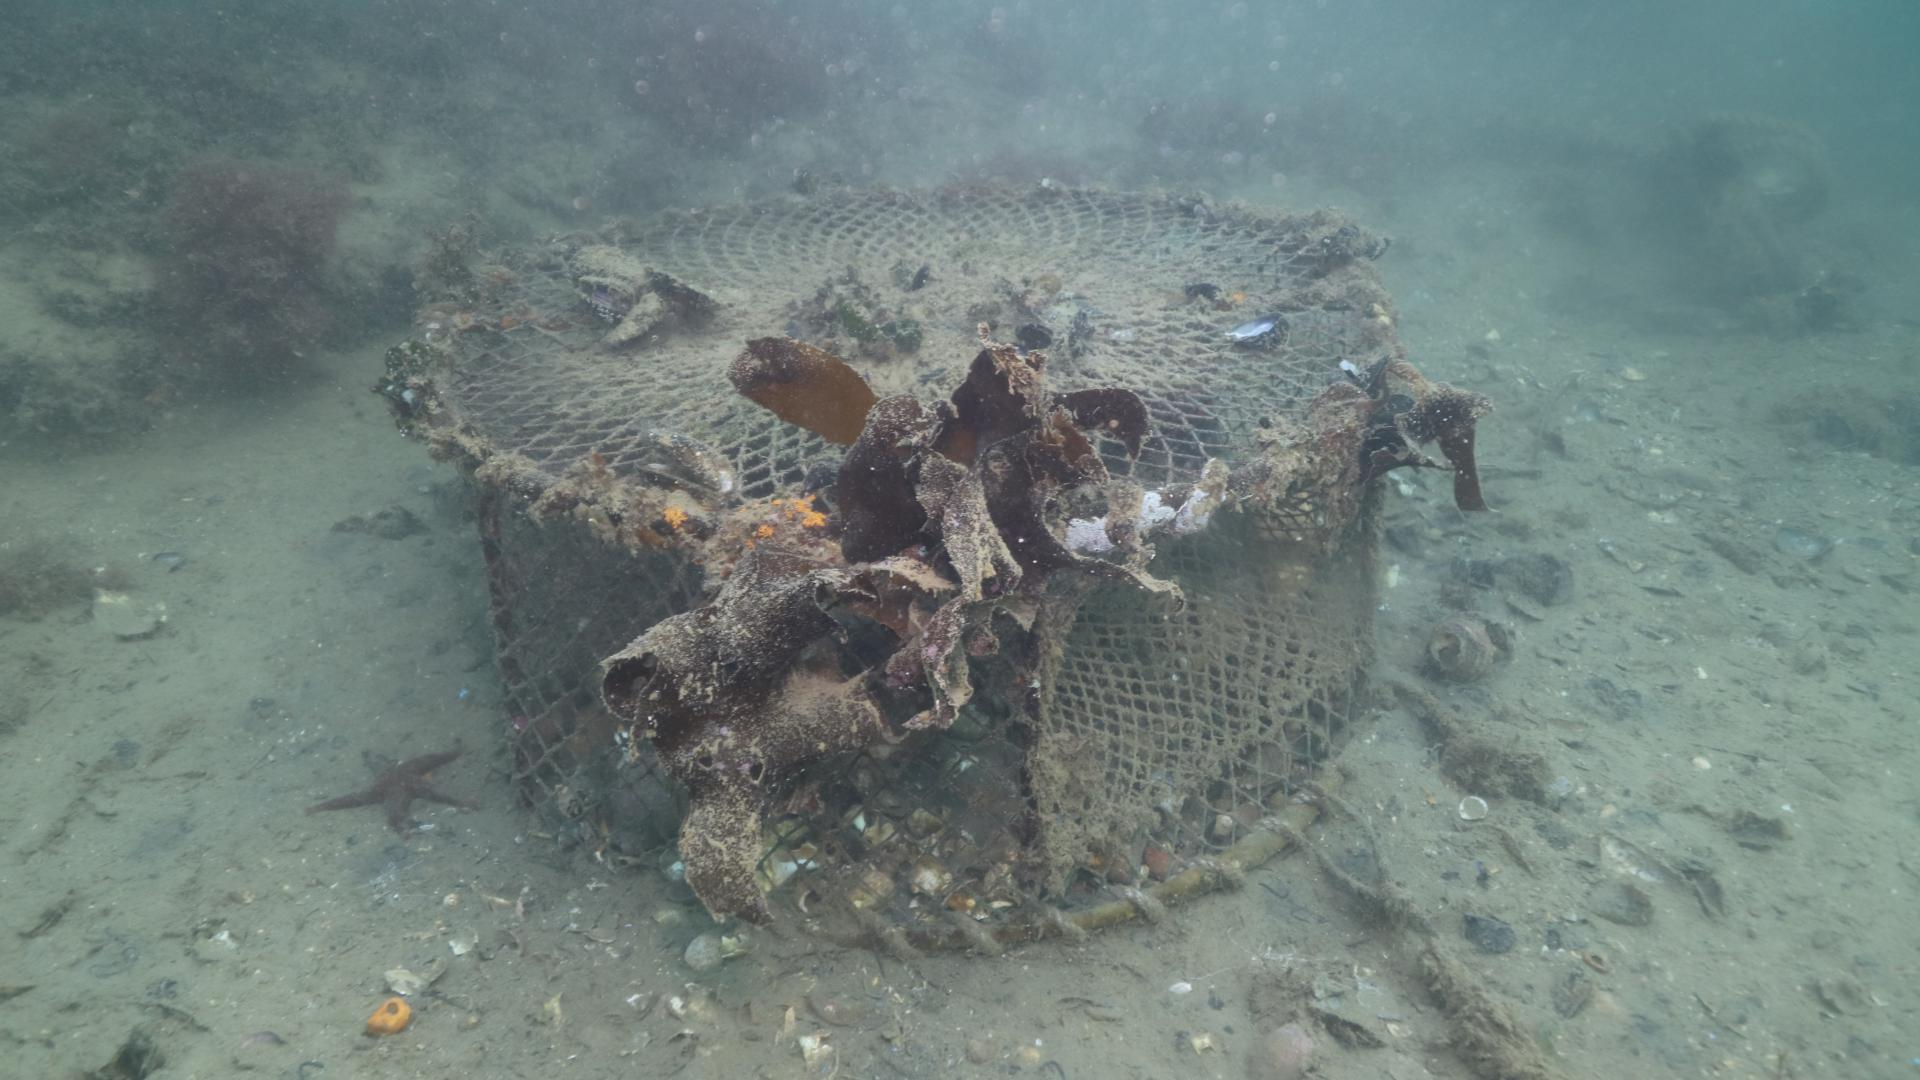circular fish trap: (407, 179, 1399, 959)
